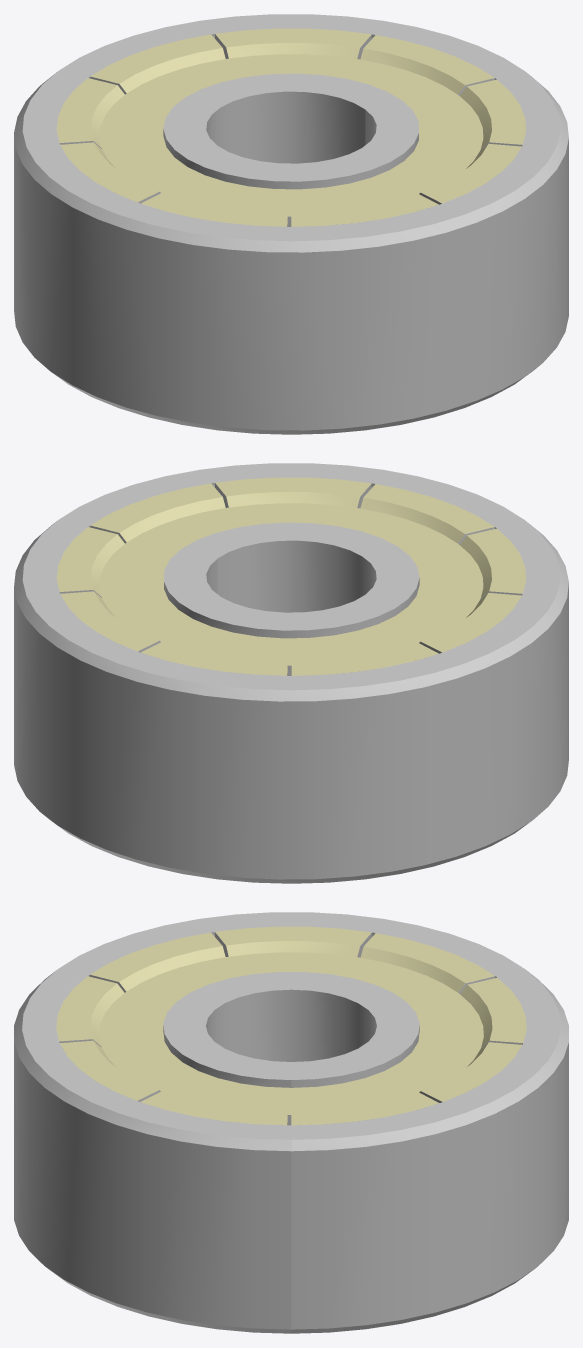
File: fc-bearing-624zz.glb
3 renders of one model, top to bottom at view 1: azimuth 30°, elevation 25°; view 2: azimuth 150°, elevation 25°; view 3: azimuth 270°, elevation 25°, orthographic.
Parts seen in each view (by area): view 1: 0.5833333333333334_0.5833333333333334_0.5833333333333334_0.8, 0.75_0.6666666666666666_0.4166666666666667_0.9; view 2: 0.5833333333333334_0.5833333333333334_0.5833333333333334_0.8, 0.75_0.6666666666666666_0.4166666666666667_0.9; view 3: 0.5833333333333334_0.5833333333333334_0.5833333333333334_0.8, 0.75_0.6666666666666666_0.4166666666666667_0.9.
Boxes of the visible parts, left/top/right/bottom form: 0.5833333333333334_0.5833333333333334_0.5833333333333334_0.8: left=14, top=14, right=568, bottom=434; 0.75_0.6666666666666666_0.4166666666666667_0.9: left=56, top=28, right=525, bottom=226; 0.5833333333333334_0.5833333333333334_0.5833333333333334_0.8: left=14, top=463, right=568, bottom=883; 0.75_0.6666666666666666_0.4166666666666667_0.9: left=56, top=477, right=525, bottom=675; 0.5833333333333334_0.5833333333333334_0.5833333333333334_0.8: left=14, top=912, right=568, bottom=1333; 0.75_0.6666666666666666_0.4166666666666667_0.9: left=56, top=926, right=526, bottom=1125.
Bounding box in the file's own units: 1.3 × 0.5 × 1.3.
